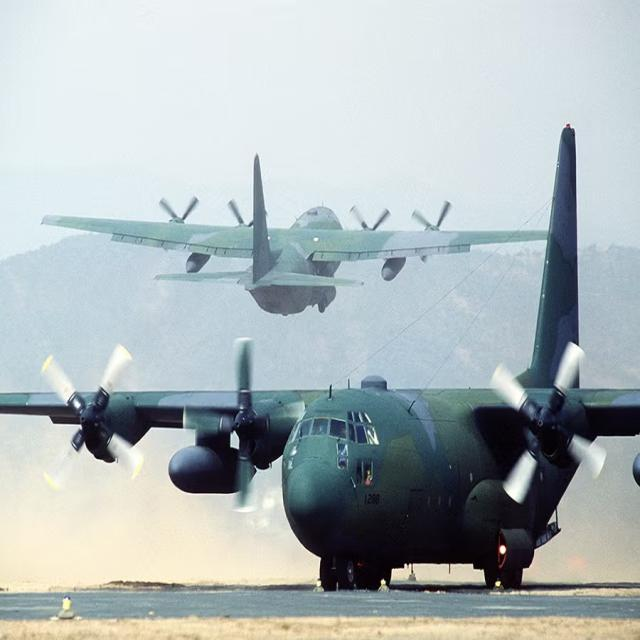C130: (0, 97, 640, 627), (31, 149, 631, 328)
